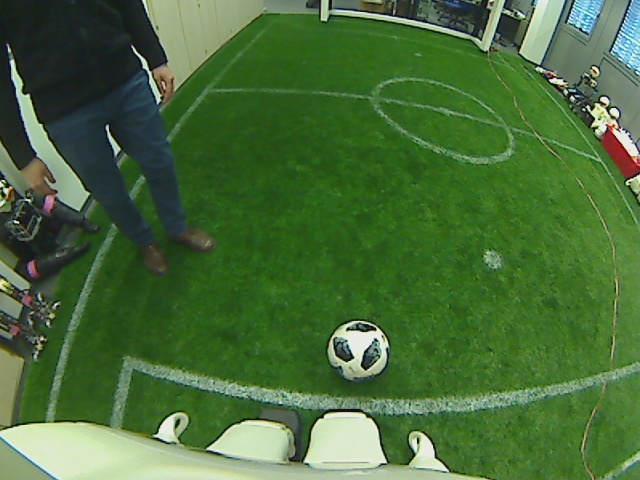ball: (326, 317, 390, 382)
